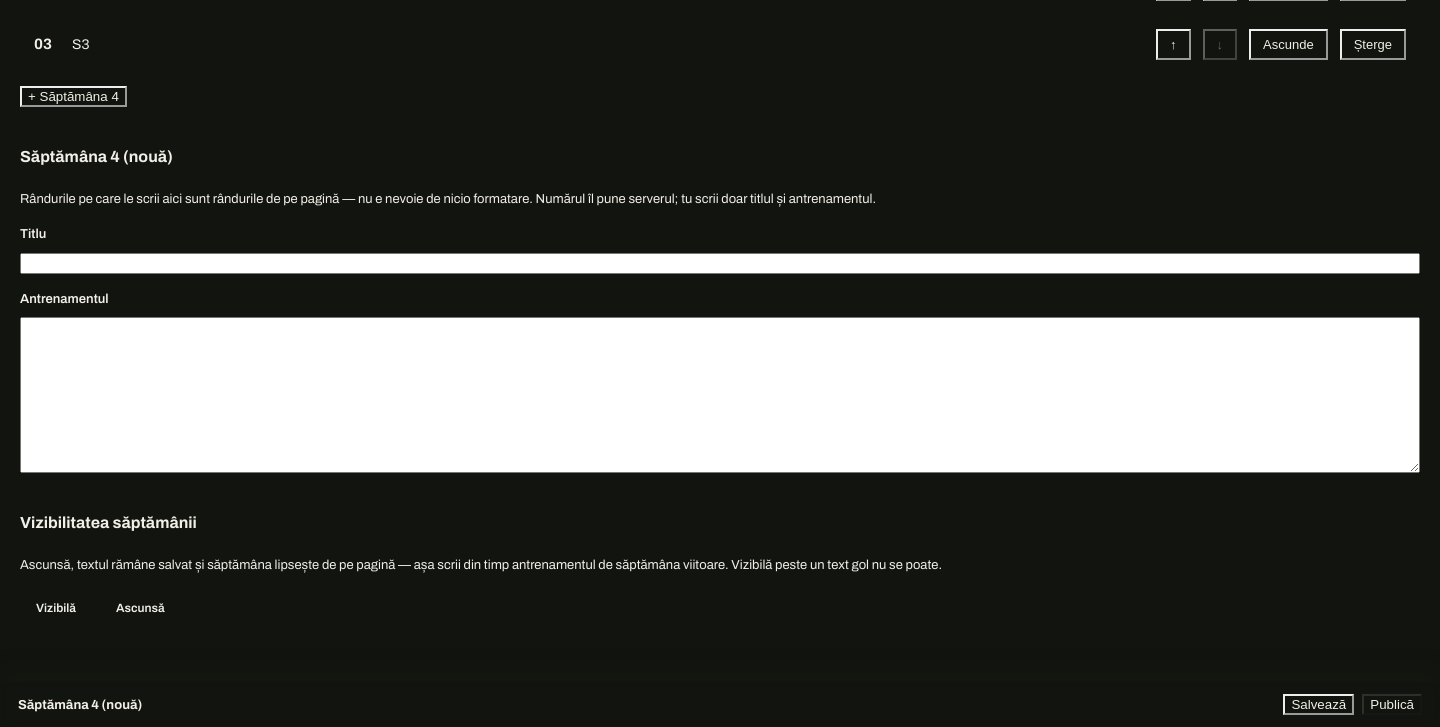
textul nesalvat › „Rămân aici" păstrează textul
(page scrolled)
Type "ceva nesalvat" into the text box labelled "Antrenamentul" at (720, 395), box x1=20 y1=317 x2=1420 y2=473
(page scrolled)
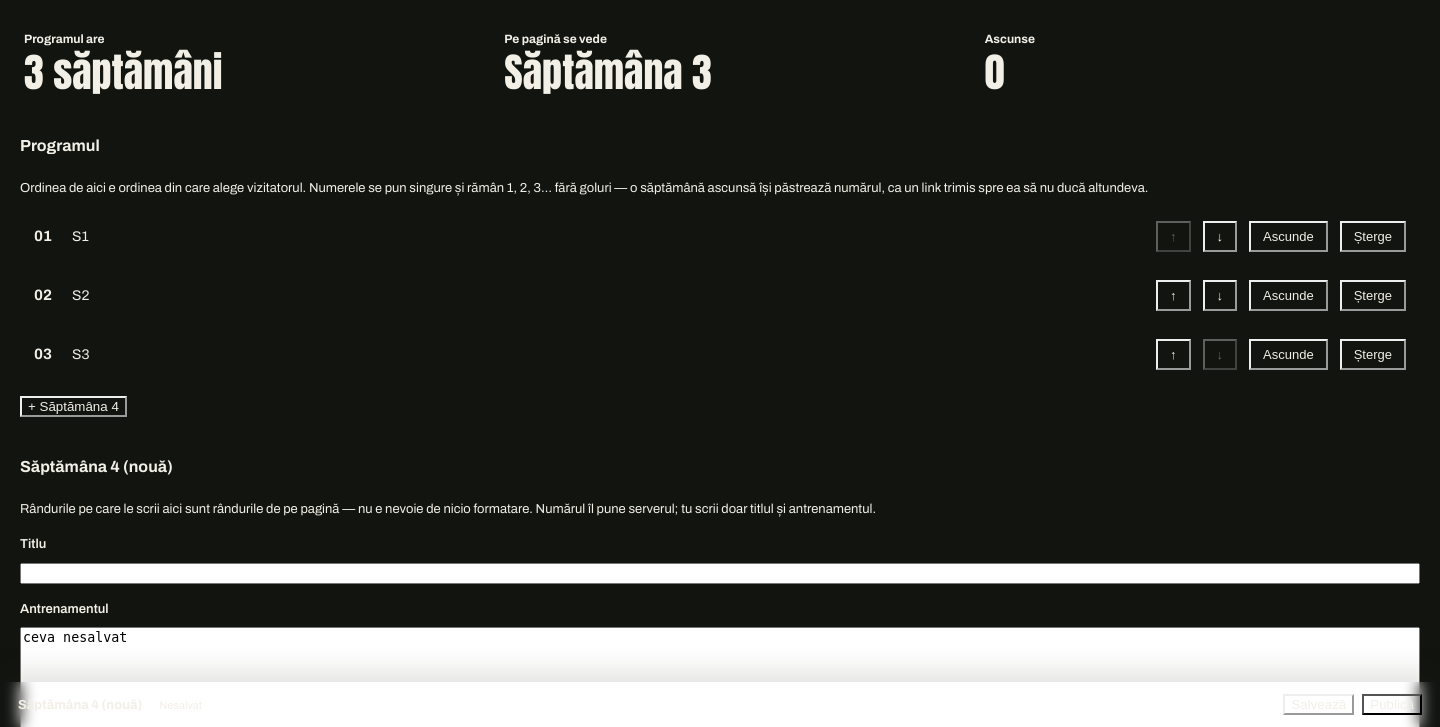
Click the button "S1" at (80, 236), box x1=72 y1=223 x2=1144 y2=250
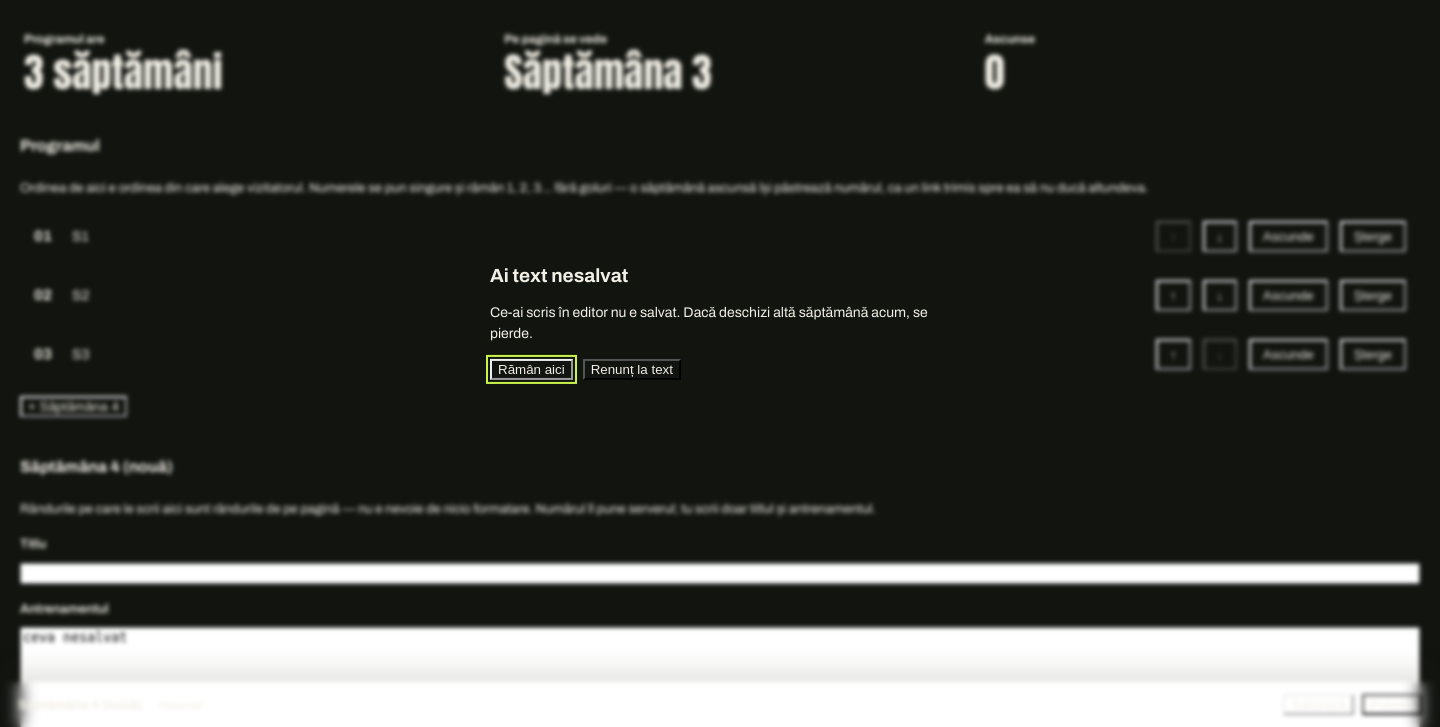
Click the button "Rămân aici" at (531, 370), box x1=490 y1=359 x2=573 y2=380
(page scrolled)
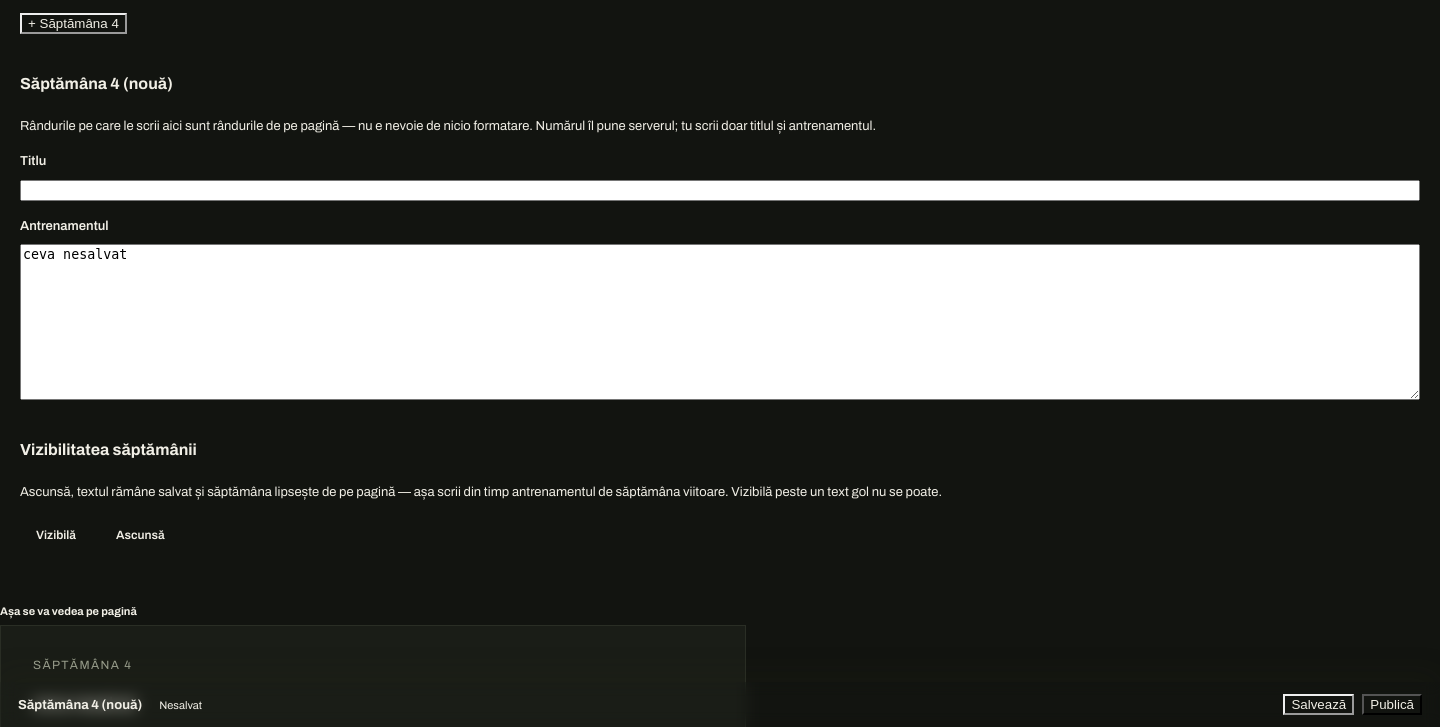
Result: the dialog is gone
